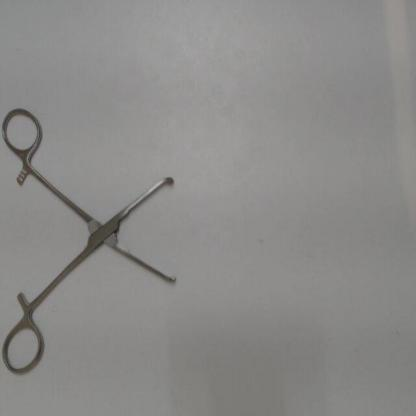Allis Tissue Forceps: (0, 103, 185, 381)
